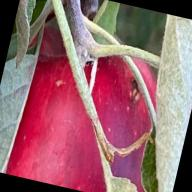Apples: (0, 22, 187, 192)
